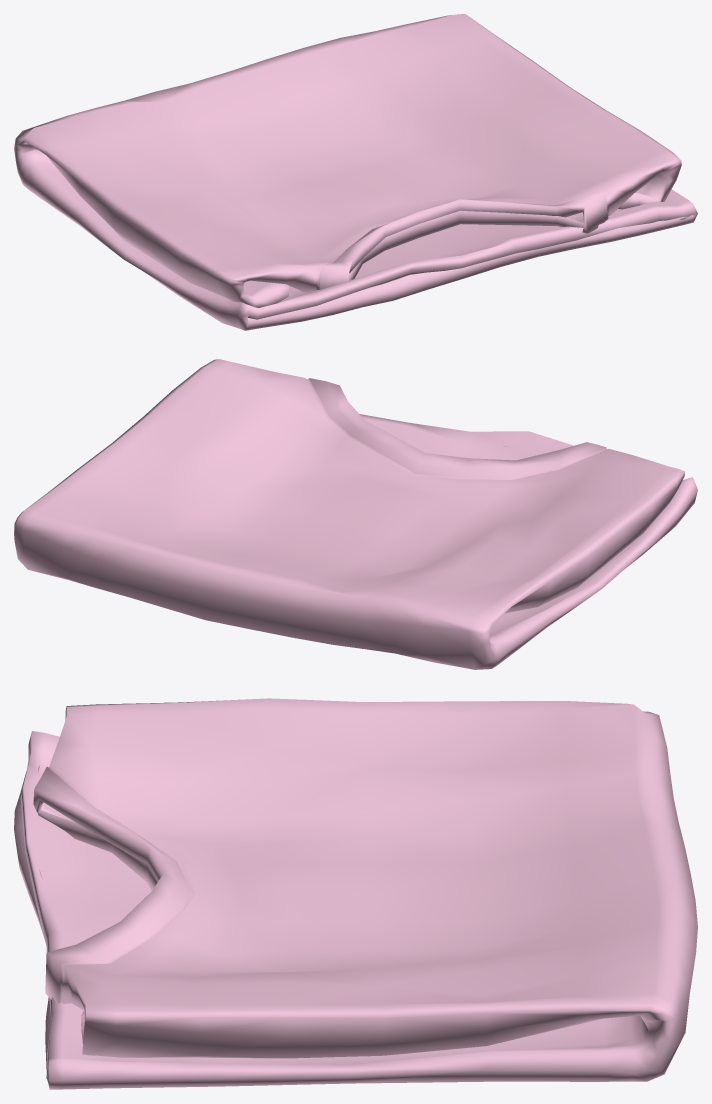
The model's file is Folded_T_Shirt19.fbx.
3 views of the same model, one above another, from view 1: azimuth 30°, elevation 25°; view 2: azimuth 150°, elevation 25°; view 3: azimuth 270°, elevation 25° (orthographic). The views are drawn at different scales.
Parts seen in each view (by area): view 1: Folded_T_Shirt19; view 2: Folded_T_Shirt19; view 3: Folded_T_Shirt19.
Boxes of the visible parts, box(x1,y1,x2,y2) form: Folded_T_Shirt19: box(14, 14, 697, 330); Folded_T_Shirt19: box(14, 359, 697, 669); Folded_T_Shirt19: box(14, 698, 697, 1089).
Size of the model in its own units: 36.95 by 4.2 by 32.8.
